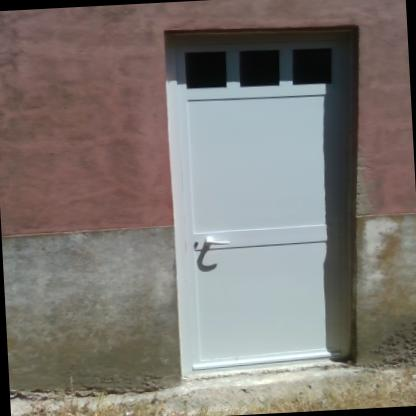closed: (149, 14, 388, 390)
